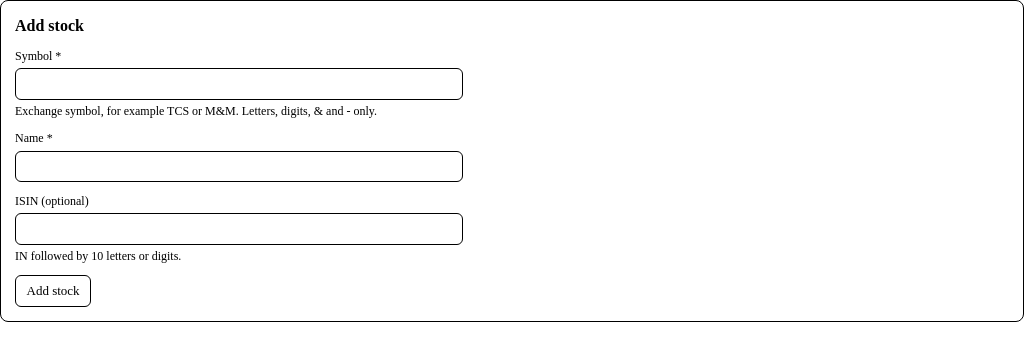
it: Add stock form (INS-15 UI path) › 409 points to instruments.csv and 422 shows the field message
Type "TCS" into the field with test id "add-stock-symbol" at [239, 84], box [15,68,463,100]
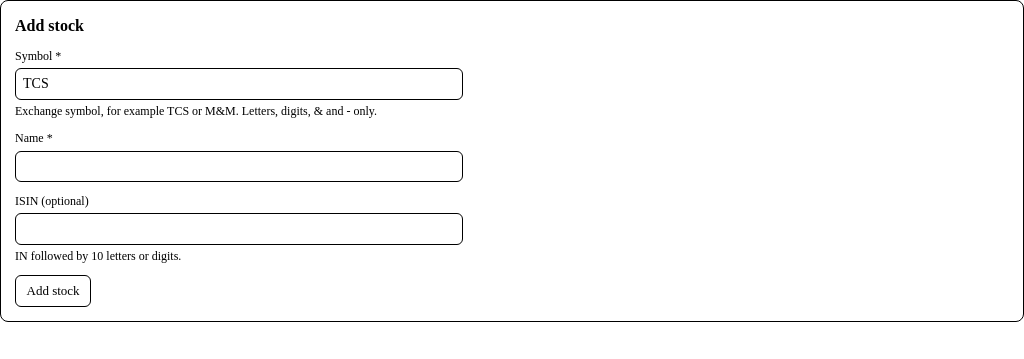
Type "Tata" into the field with test id "add-stock-name" at [239, 167], box [15,151,463,182]
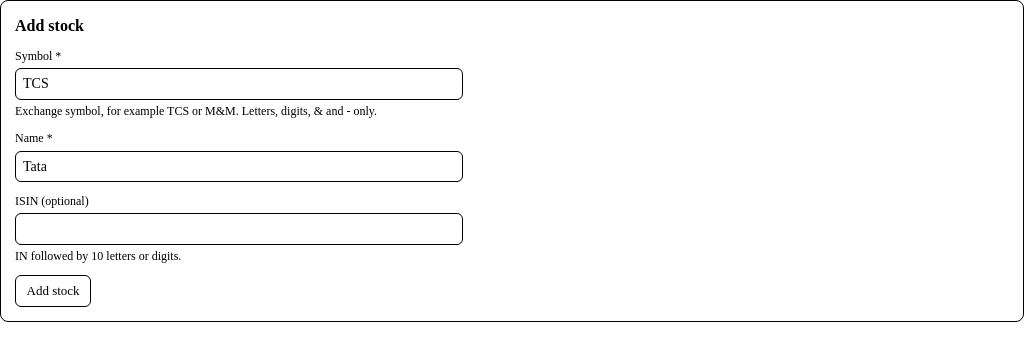
Click the button with test id "add-stock-submit" at [53, 291], box [15,275,91,307]
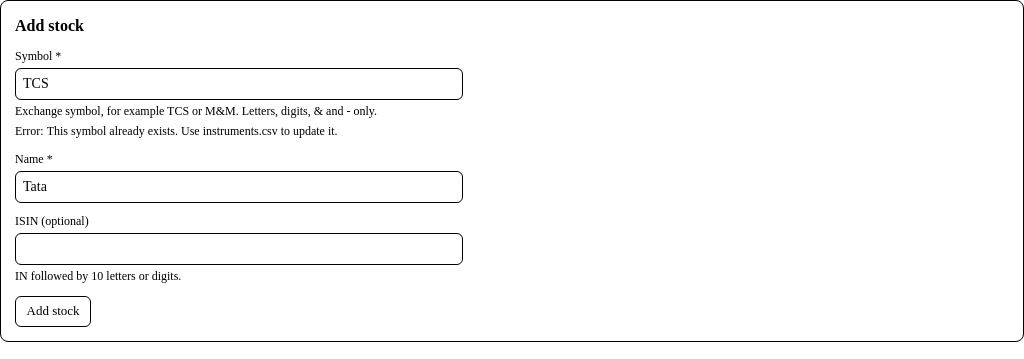
Now the message with test id "form-field-error" shows "instruments.csv", box [47,124,338,138]
Click the button with test id "add-stock-submit" at [53, 311], box [15,296,91,327]
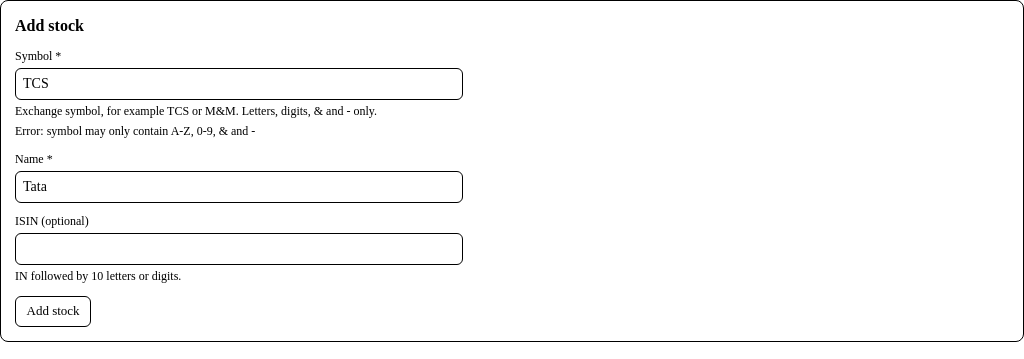
Now the message with test id "form-field-error" shows "may only contain", box [47,124,255,138]
